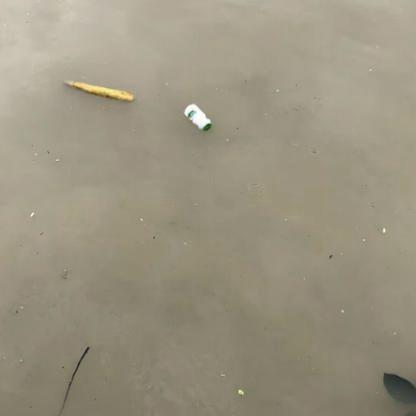Metal: (183, 103, 212, 134)
Trash: (61, 78, 136, 103)
